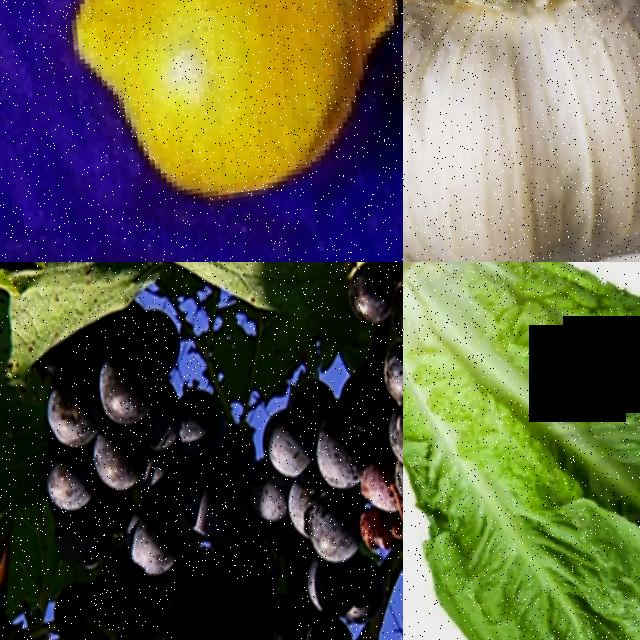garlic: (403, 0, 640, 262)
grapes: (25, 327, 267, 640)
lemon: (50, 0, 403, 220)
lettuce: (403, 262, 640, 640)
